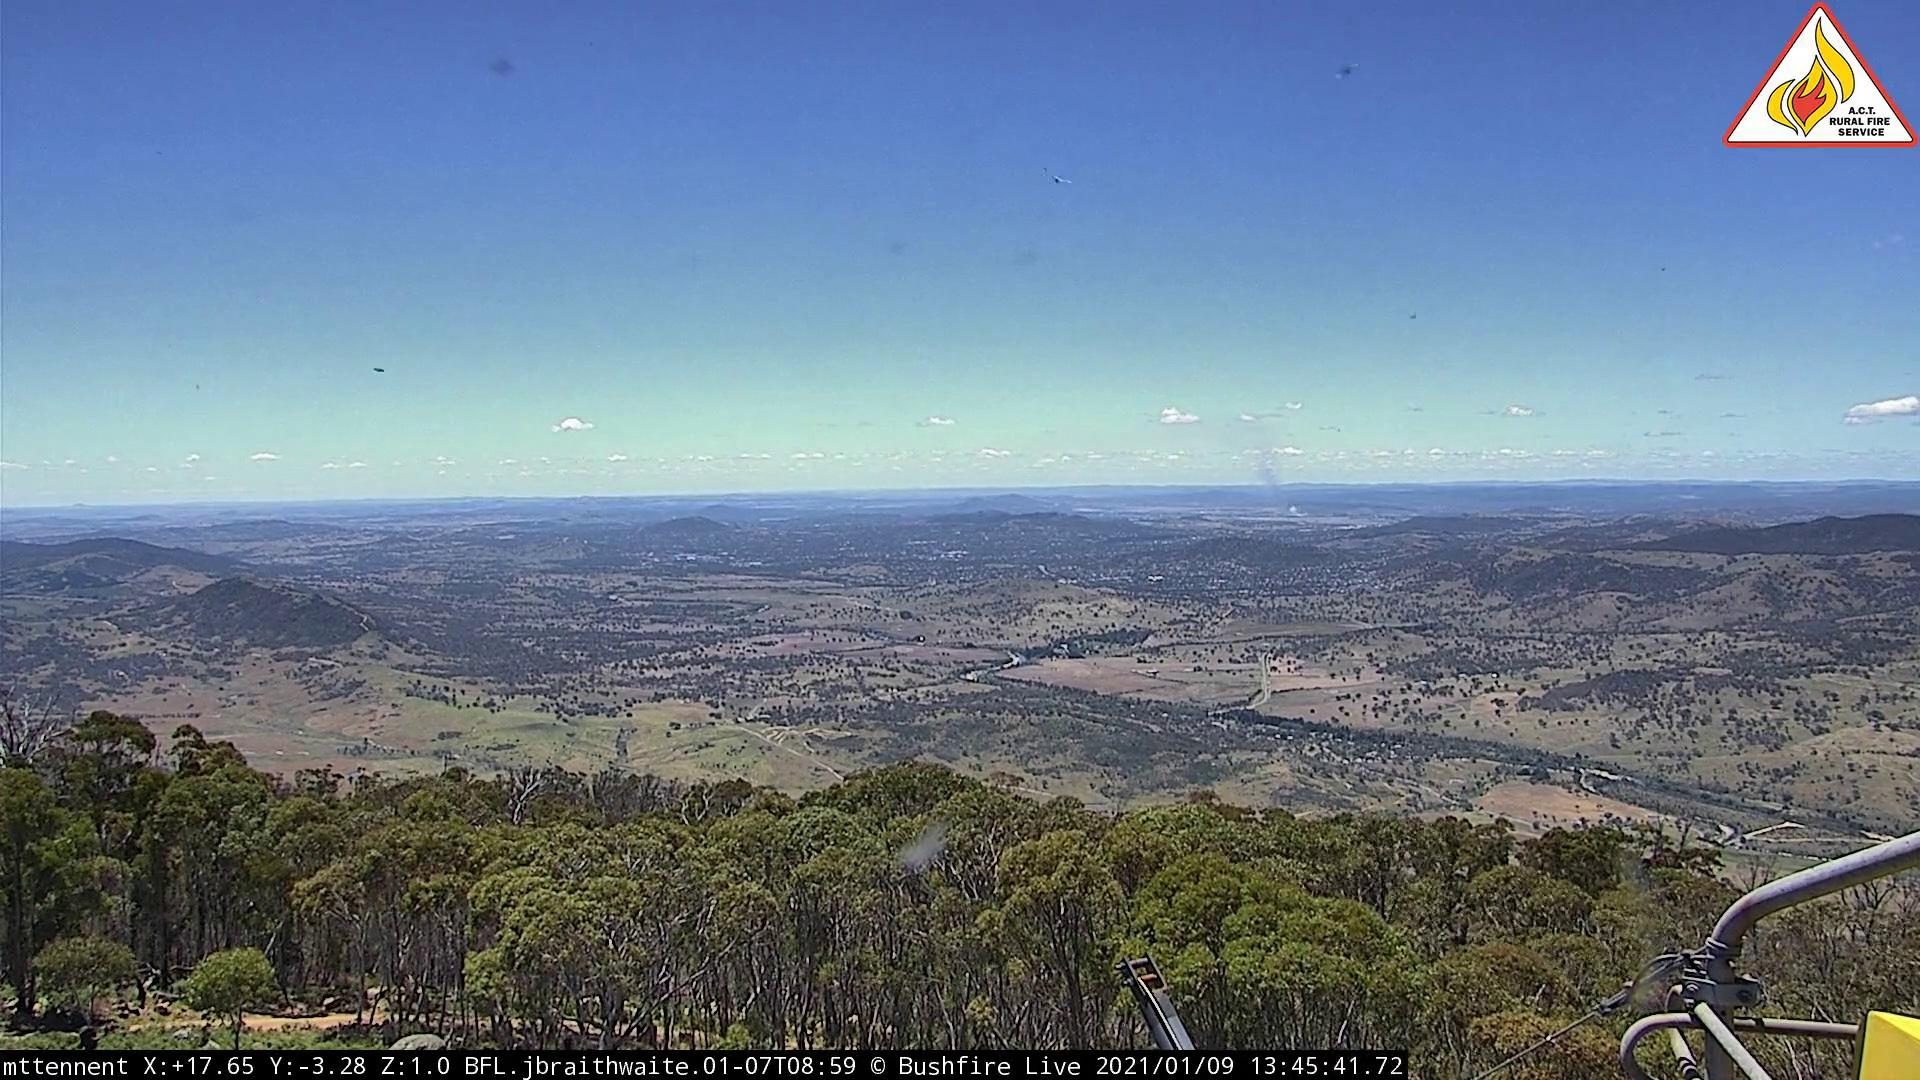Smoke: (1270, 487, 1313, 521)
